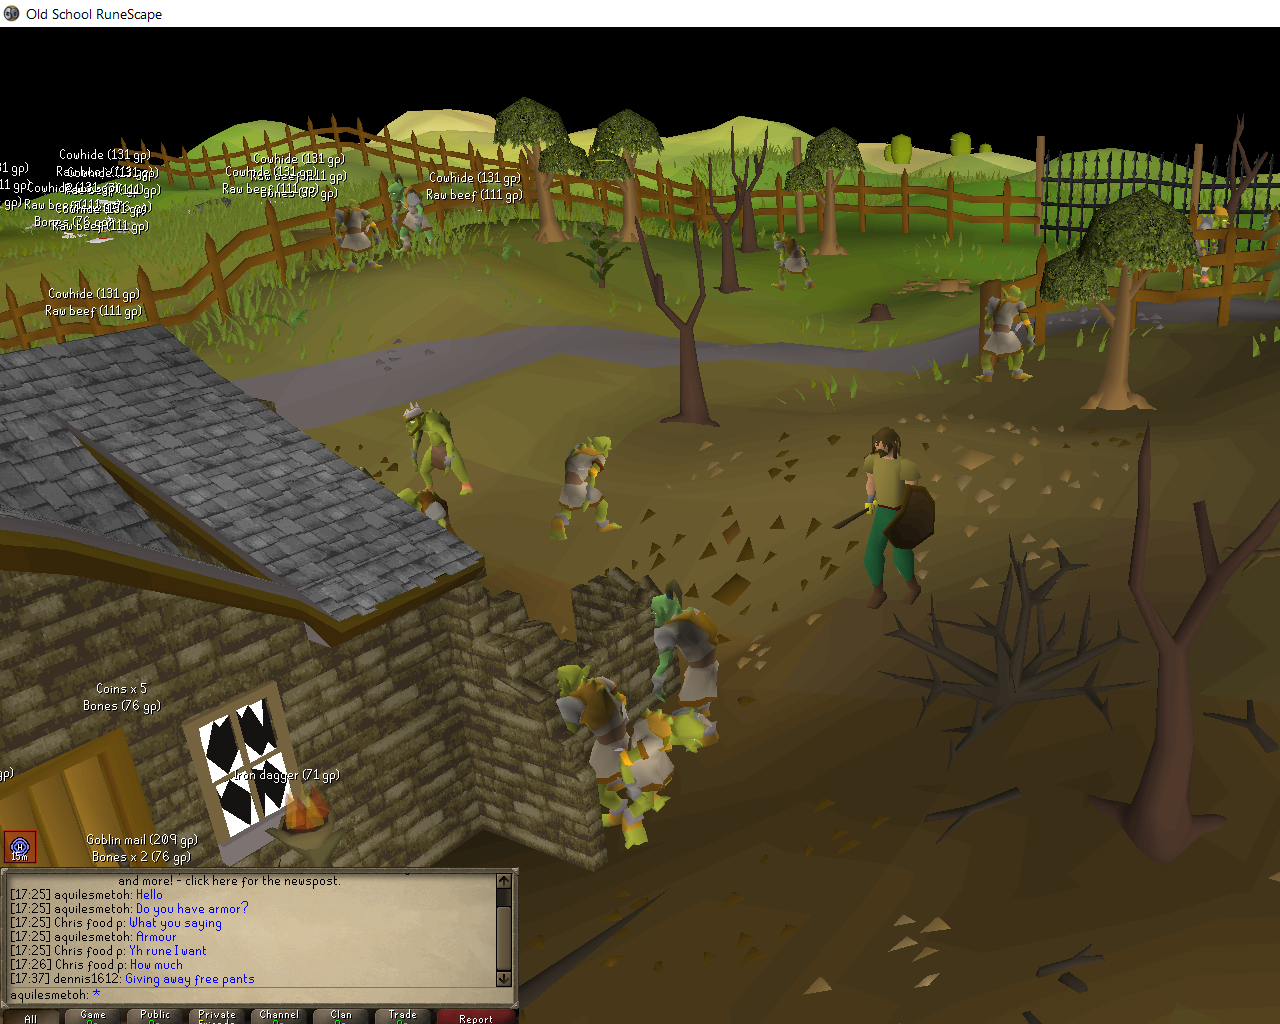Goblin: (546, 660, 638, 830), (605, 709, 716, 848), (639, 594, 730, 750), (543, 430, 627, 546), (397, 402, 478, 498), (976, 283, 1041, 385), (383, 176, 442, 253), (1181, 206, 1231, 290), (332, 197, 388, 274), (768, 232, 822, 295)
